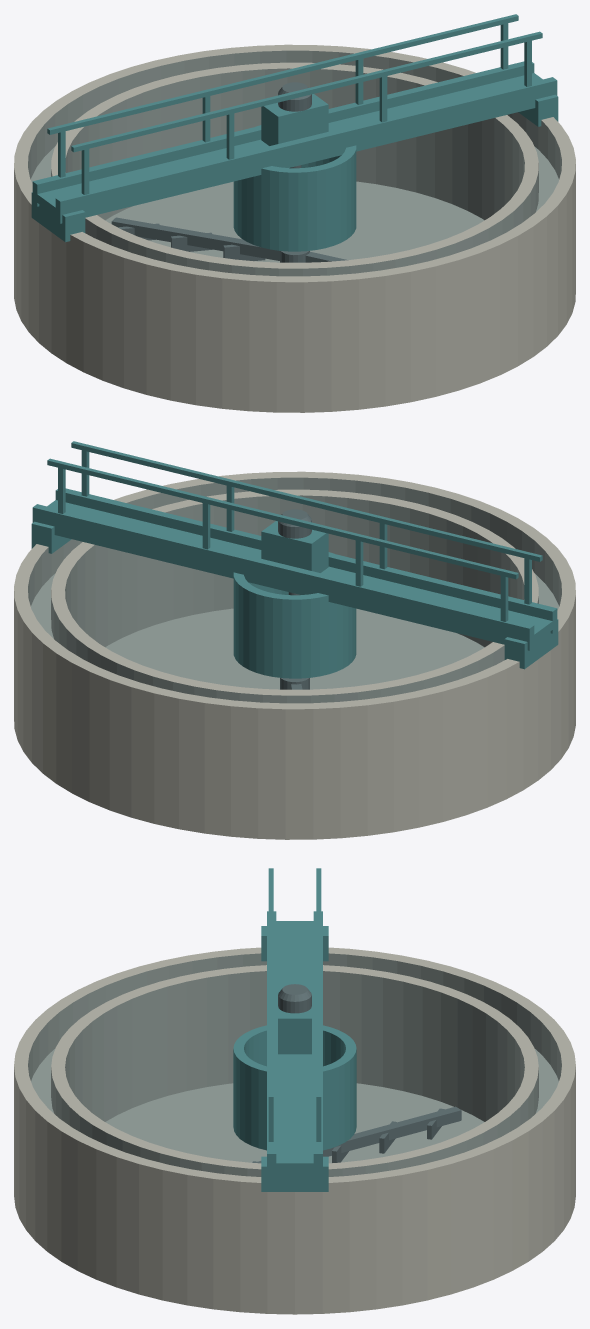
3 renders of one model, top to bottom at view 1: azimuth 30°, elevation 25°; view 2: azimuth 150°, elevation 25°; view 3: azimuth 270°, elevation 25°, orthographic.
Parts seen in each view (by area): view 1: WholeCircularBasinAndPerimeterGutter, WholeDiameterBridgeDeckAndEdgeBeams, WholeOpenCentralFeedwell, WholeBridgeOpenRailFront, WholeBridgeOpenRailRear, WholeCentralDriveCover, WholeLowRadialRakeArmFar, WholeBridgeEndShoeLeft, WholeBridgeEndShoeRight, WholeDriveTopCap; view 2: WholeCircularBasinAndPerimeterGutter, WholeDiameterBridgeDeckAndEdgeBeams, WholeOpenCentralFeedwell, WholeBridgeOpenRailRear, WholeBridgeOpenRailFront, WholeCentralDriveCover, WholeBridgeEndShoeLeft, WholeBridgeEndShoeRight, WholeDriveTopCap; view 3: WholeCircularBasinAndPerimeterGutter, WholeDiameterBridgeDeckAndEdgeBeams, WholeOpenCentralFeedwell, WholeLowRadialRakeArmFar, WholeBridgeOpenRailFront, WholeBridgeOpenRailRear, WholeBridgeEndShoeRight, WholeCentralDriveCover, WholeDriveTopCap.
Part boxes in pixels (box(x1,y1,x2,y2)): WholeCircularBasinAndPerimeterGutter: box(14, 44, 575, 412); WholeDiameterBridgeDeckAndEdgeBeams: box(32, 61, 557, 223); WholeOpenCentralFeedwell: box(233, 125, 356, 251); WholeBridgeOpenRailFront: box(71, 31, 542, 194); WholeBridgeOpenRailRear: box(47, 14, 518, 177); WholeCentralDriveCover: box(261, 94, 328, 145); WholeLowRadialRakeArmFar: box(111, 217, 279, 260); WholeBridgeEndShoeLeft: box(31, 192, 85, 242); WholeBridgeEndShoeRight: box(518, 94, 558, 126); WholeDriveTopCap: box(278, 82, 311, 111); WholeCircularBasinAndPerimeterGutter: box(14, 471, 575, 839); WholeDiameterBridgeDeckAndEdgeBeams: box(32, 488, 557, 650); WholeOpenCentralFeedwell: box(233, 552, 356, 678); WholeBridgeOpenRailRear: box(47, 458, 518, 621); WholeBridgeOpenRailFront: box(71, 441, 542, 604); WholeCentralDriveCover: box(261, 521, 328, 572); WholeBridgeEndShoeLeft: box(504, 619, 558, 669); WholeBridgeEndShoeRight: box(31, 521, 71, 553); WholeDriveTopCap: box(278, 509, 311, 538); WholeCircularBasinAndPerimeterGutter: box(14, 947, 575, 1314); WholeDiameterBridgeDeckAndEdgeBeams: box(267, 911, 322, 1175); WholeOpenCentralFeedwell: box(233, 1025, 356, 1150); WholeLowRadialRakeArmFar: box(323, 1106, 461, 1156); WholeBridgeOpenRailFront: box(268, 868, 273, 1141); WholeBridgeOpenRailRear: box(316, 868, 321, 1141); WholeBridgeEndShoeRight: box(261, 1156, 328, 1191); WholeCentralDriveCover: box(278, 994, 311, 1054); WholeDriveTopCap: box(278, 984, 311, 1013).
Bounding box in the file's own units: 4.94 × 2.02 × 4.84.
